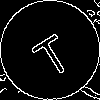T: (25, 25, 76, 80)
